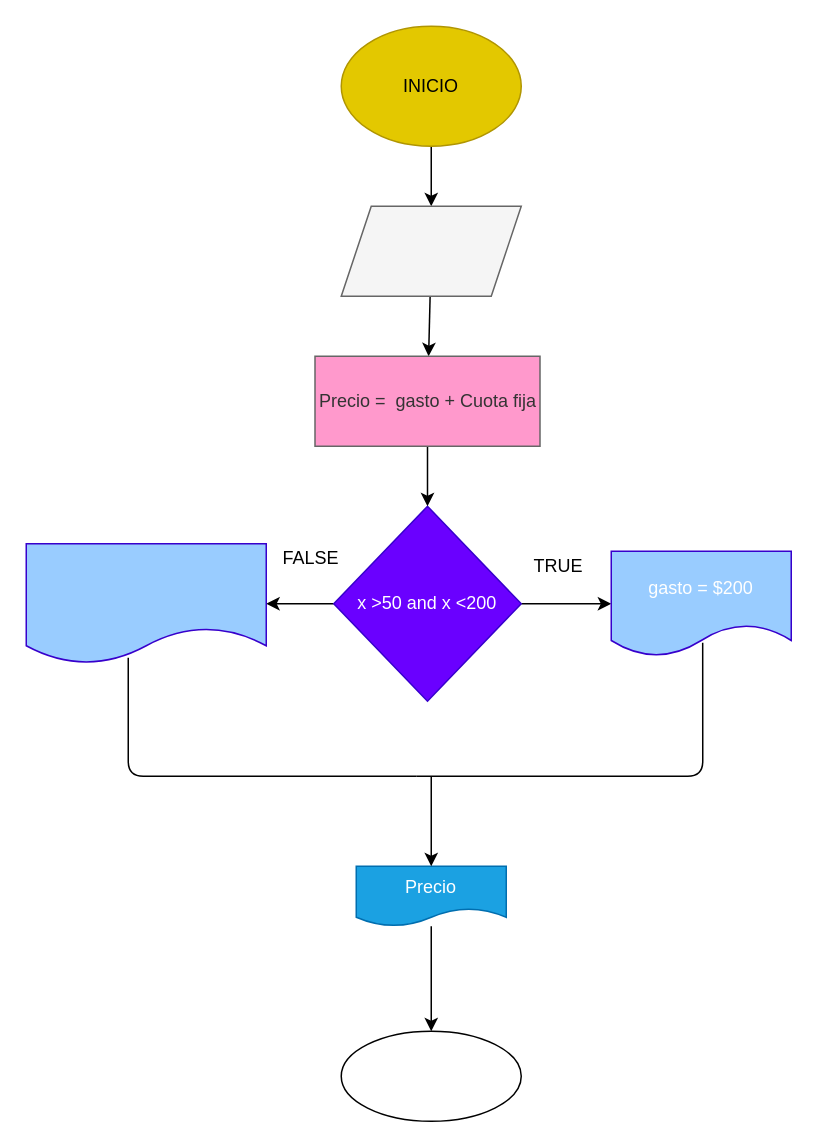
This 818x1148 diagram has some shape labels left out. Each missing label, with the box of its shape:
"X" mts^3: (340, 205, 521, 296)
FIN: (340, 1030, 521, 1121)
gasto = 3000*(mts^3-250): (25, 542, 266, 664)
